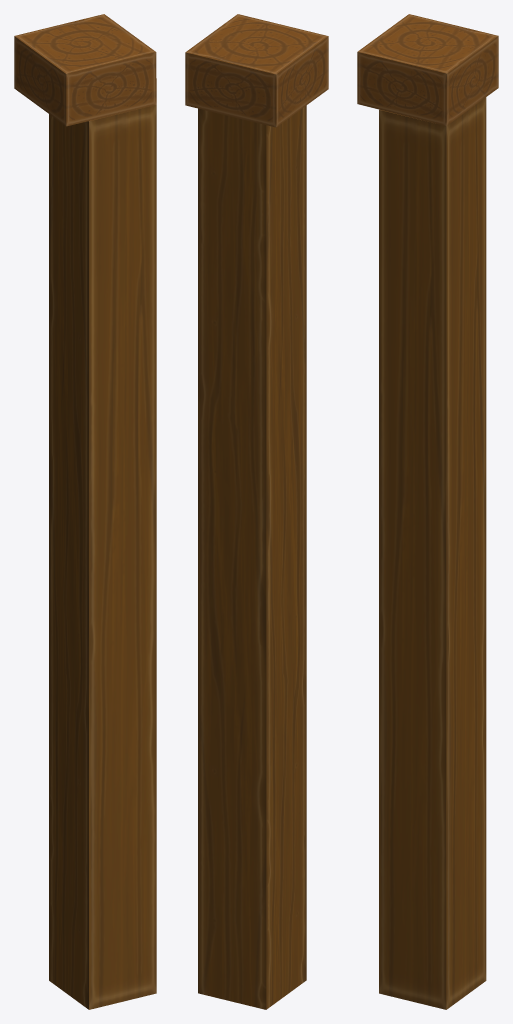
Rendered from SM_House_Corner_01.fbx.
3 views of the same model, side by side, from view 1: azimuth 30°, elevation 25°; view 2: azimuth 150°, elevation 25°; view 3: azimuth 330°, elevation 25° (orthographic).
Visible parts, largest first — view 1: SM_House_Corner_01; view 2: SM_House_Corner_01; view 3: SM_House_Corner_01.
Part boxes in pixels (x1,y1,x2,y2): SM_House_Corner_01: (14,14,156,1009); SM_House_Corner_01: (185,14,328,1009); SM_House_Corner_01: (357,14,498,1009).
Size of the model in its own units: 0.4005 by 4 by 0.4041.
